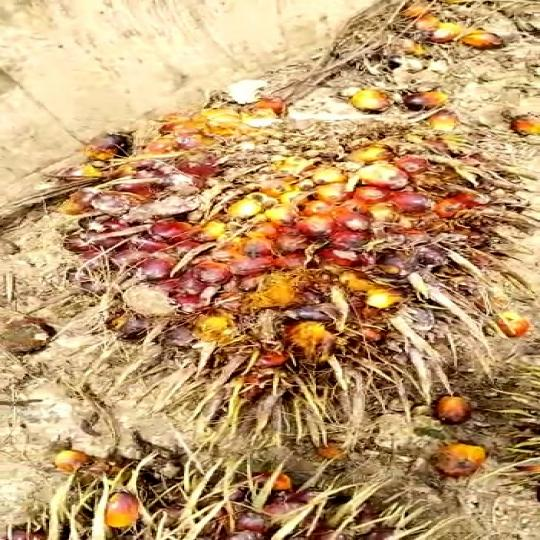masak: (75, 88, 530, 402)
